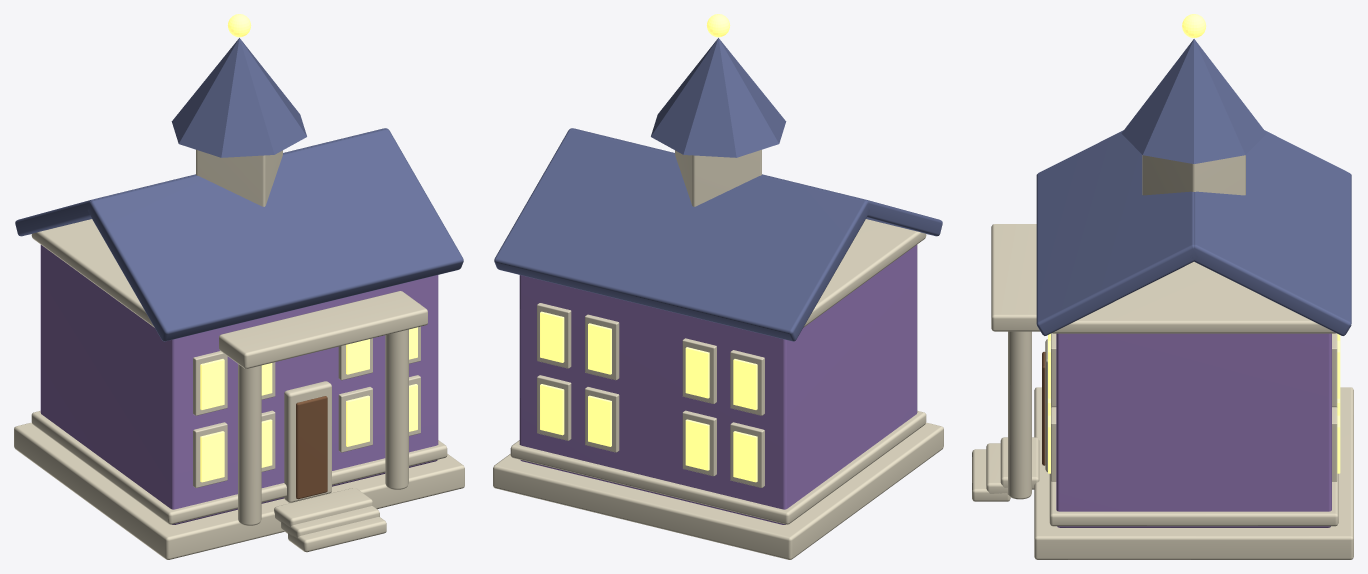
Rendered from SM_Library_Fantasy.fbx.
The picture shows the model from 3 angles, left to right: view 1: azimuth 30°, elevation 25°; view 2: azimuth 150°, elevation 25°; view 3: azimuth 270°, elevation 25°; orthographic projection. The views are drawn at different scales.
Visible parts, largest first — view 1: SM_Library_Fantasy; view 2: SM_Library_Fantasy; view 3: SM_Library_Fantasy.
Part boxes in pixels (<box>): SM_Library_Fantasy: <box>14,14,464,559</box>; SM_Library_Fantasy: <box>493,14,943,559</box>; SM_Library_Fantasy: <box>972,14,1353,559</box>.
Size of the model in its own units: 325 by 347 by 471.
